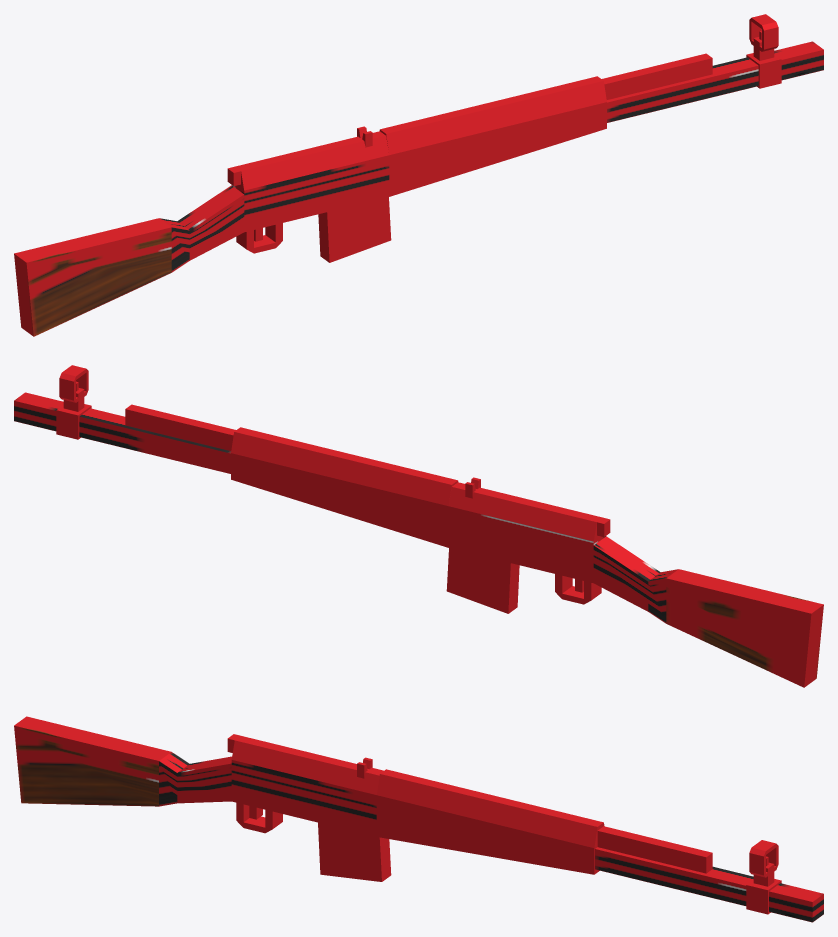
Rendered from ModelSVT40.obj.
3 views of the same model, one above another, from view 1: azimuth 30°, elevation 25°; view 2: azimuth 150°, elevation 25°; view 3: azimuth 330°, elevation 25° (orthographic).
Parts seen in each view (by area): view 1: gunModel, ammoModel; view 2: gunModel, ammoModel; view 3: gunModel, ammoModel.
Part boxes in pixels (x1,y1,x2,y2): gunModel: [14, 14, 823, 336]; ammoModel: [318, 197, 391, 262]; gunModel: [14, 365, 823, 687]; ammoModel: [446, 548, 519, 613]; gunModel: [14, 716, 823, 922]; ammoModel: [318, 822, 391, 881].
Size of the model in its own units: 22 by 3.5 by 0.7.
